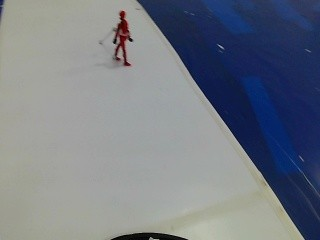pedestrian: (108, 7, 137, 71)
